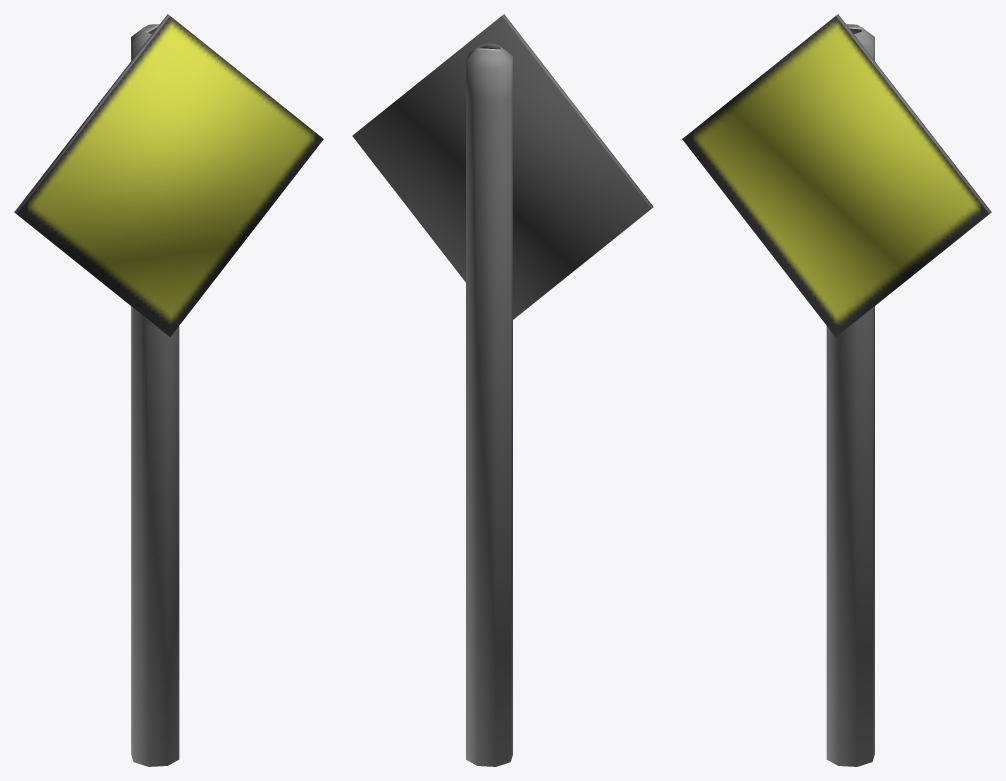
The model's file is Placa01.fbx.
3 views of the same model, side by side, from view 1: azimuth 30°, elevation 25°; view 2: azimuth 150°, elevation 25°; view 3: azimuth 330°, elevation 25° (orthographic). The views are drawn at different scales.
Visible parts, largest first — view 1: Poste01; view 2: Poste01; view 3: Poste01.
Part boxes in pixels (box(x1,y1,x2,y2)): Poste01: box(14, 14, 323, 766); Poste01: box(352, 14, 653, 766); Poste01: box(682, 14, 991, 766).
Size of the model in its own units: 70.71 by 165 by 11.
Materials: 1 (1 with a texture image).
